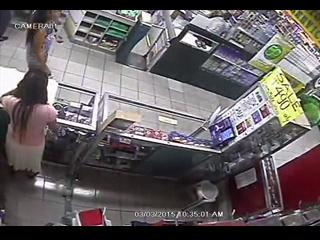Normal: (0, 65, 59, 180)
